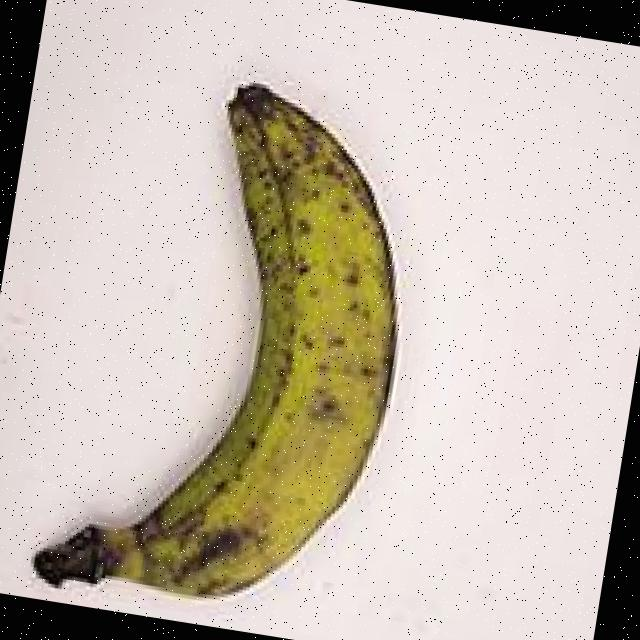Overripe: (0, 18, 482, 640)
